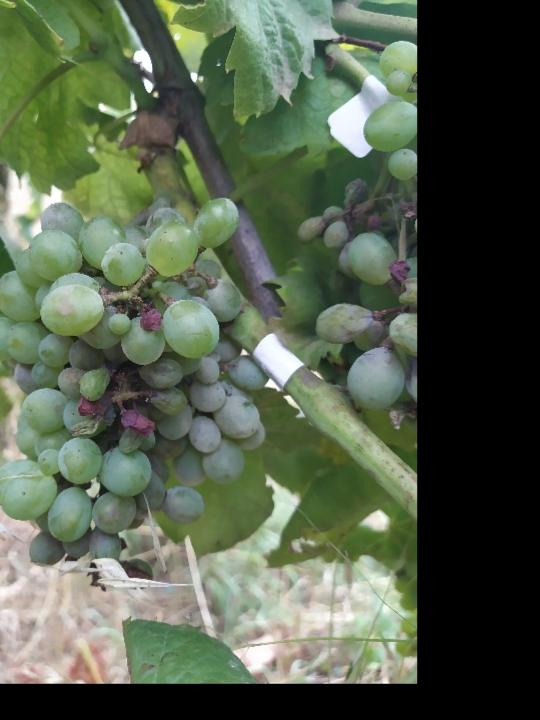grape: (0, 194, 270, 571)
